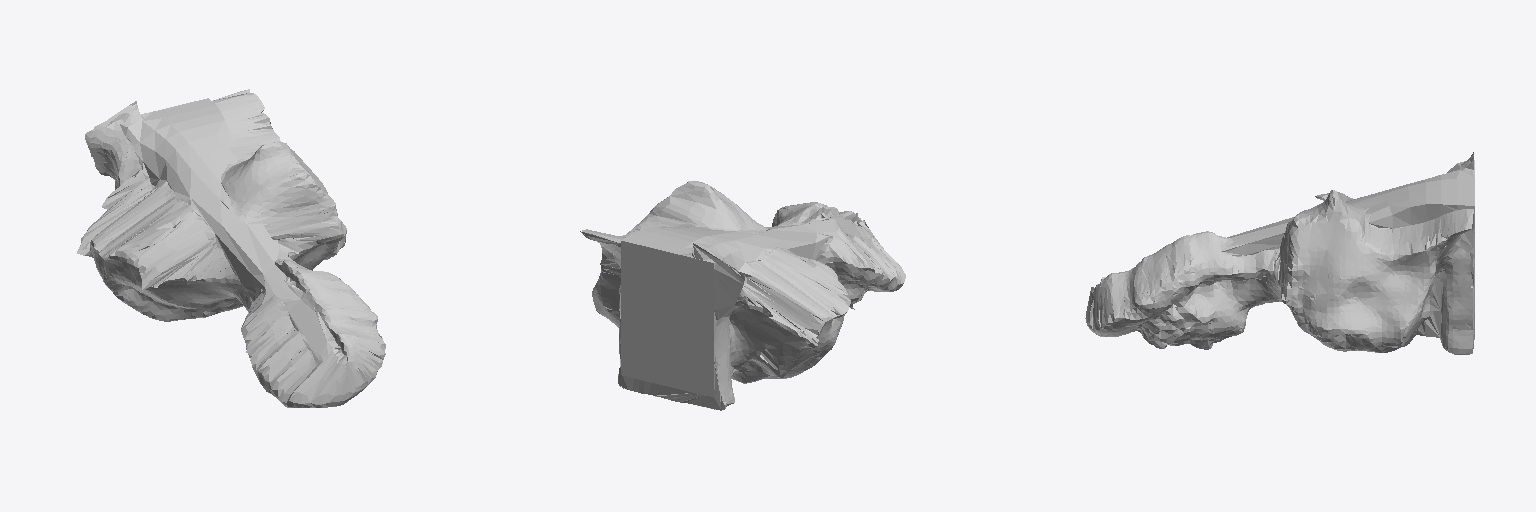
File: 73192-statue_Clustering_90pct.obj
The picture shows the model from 3 angles: view 1: azimuth 30°, elevation 25°; view 2: azimuth 150°, elevation 25°; view 3: azimuth 270°, elevation 25°; orthographic projection.
Size of the model in its own units: 0.6917 by 0.5109 by 1.